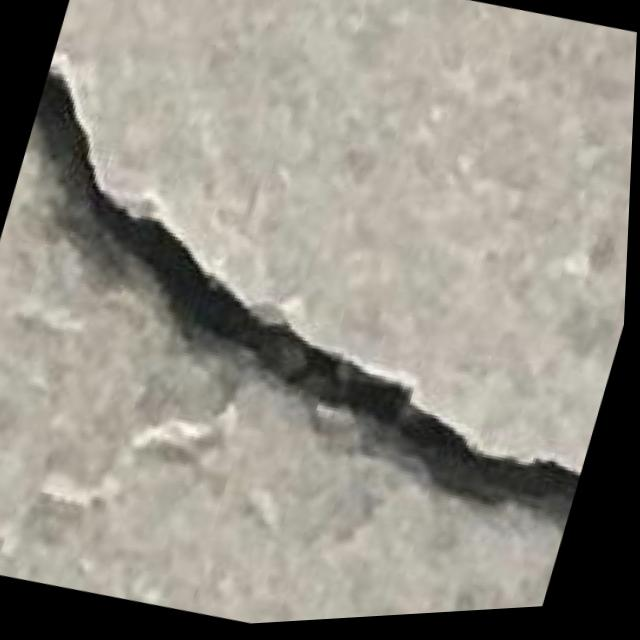Crack: (0, 30, 638, 579)
